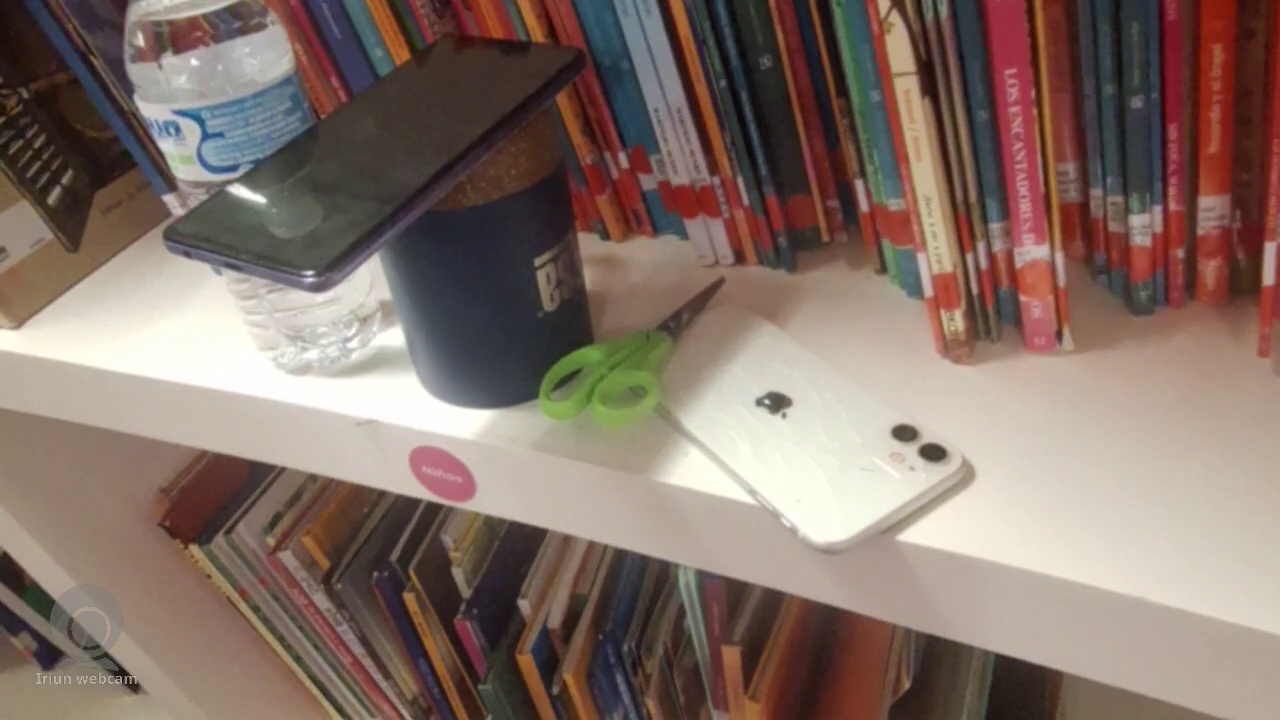botella: (120, 3, 316, 189)
